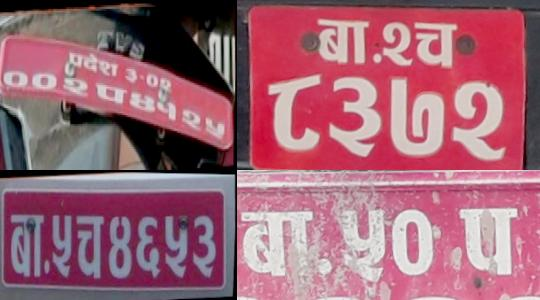0: (239, 206, 320, 280), (30, 60, 59, 98), (4, 63, 30, 94), (146, 70, 158, 88)
1: (156, 91, 178, 124)
2: (445, 69, 513, 169), (375, 15, 418, 73), (61, 71, 91, 106), (181, 102, 205, 132), (160, 74, 172, 92)
3: (323, 70, 388, 161), (188, 212, 221, 284), (126, 64, 136, 82)
4: (104, 213, 138, 283), (129, 85, 158, 118)
5: (46, 210, 78, 280), (161, 212, 191, 284), (204, 108, 228, 141)
6: (337, 206, 393, 282), (134, 212, 168, 282)
7: (385, 69, 453, 161)
8: (259, 69, 328, 158), (456, 203, 521, 279)
ba: (311, 12, 374, 71), (3, 208, 48, 279)
cha: (389, 206, 434, 276), (412, 13, 462, 75), (74, 209, 106, 282)
pa: (94, 74, 128, 110)
